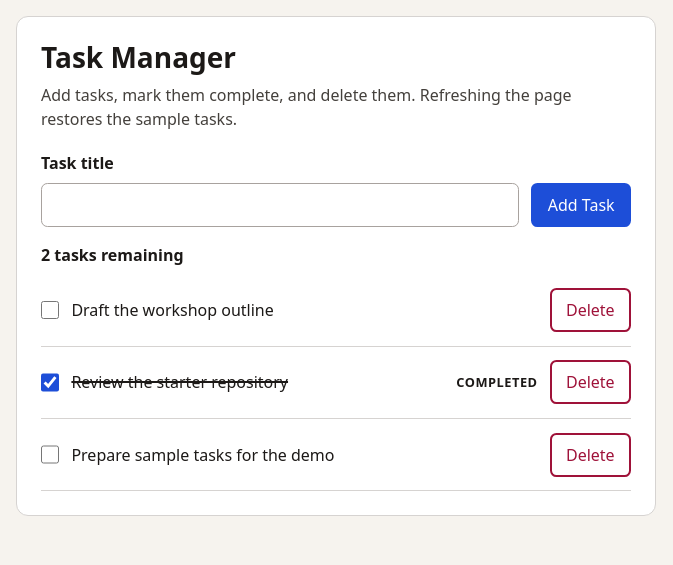
Scenario: Task Manager › shows feedback and does not add a blank title
Click the button "Add Task" at (581, 205), box [531,183,631,227]
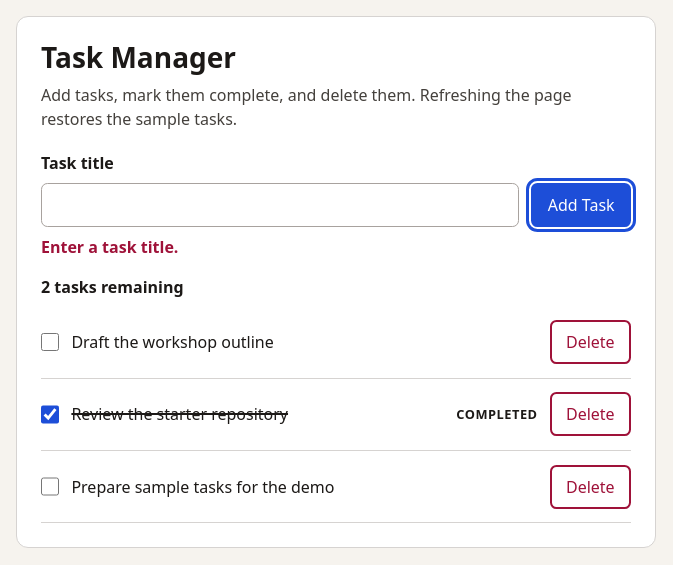
Check: the number of list items is 3, box [41,307,631,379]; [41,379,631,451]; [41,451,631,523]
Check: the message reads "Enter a task title.", box [41,236,178,258]
